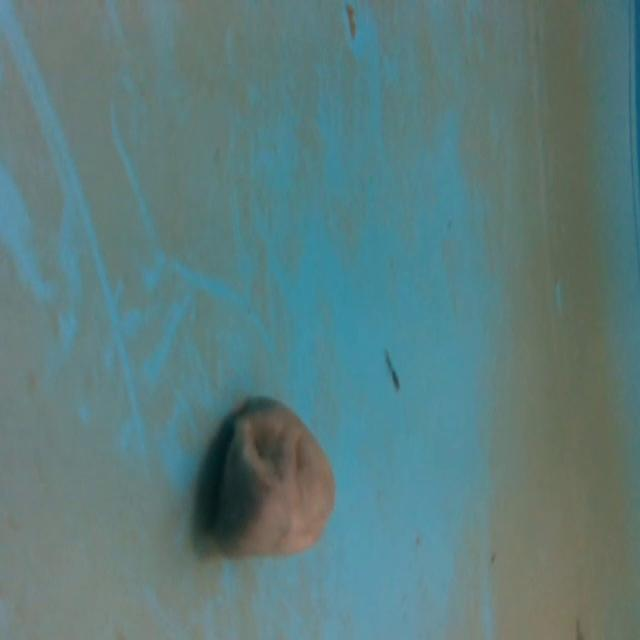rock: (203, 390, 343, 574)
